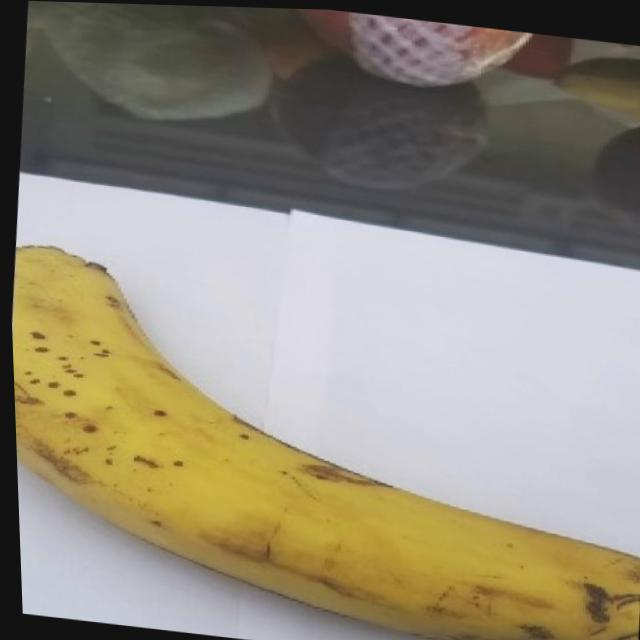Banana: (7, 239, 640, 640)
